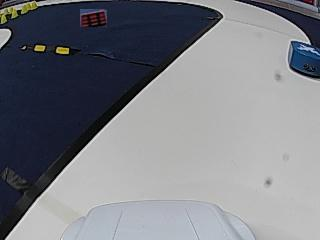prop: (288, 39, 319, 78)
